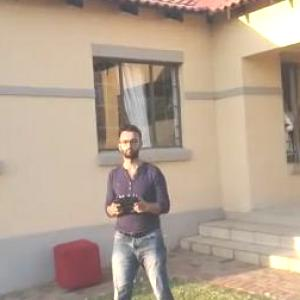follow: (93, 118, 181, 299)
